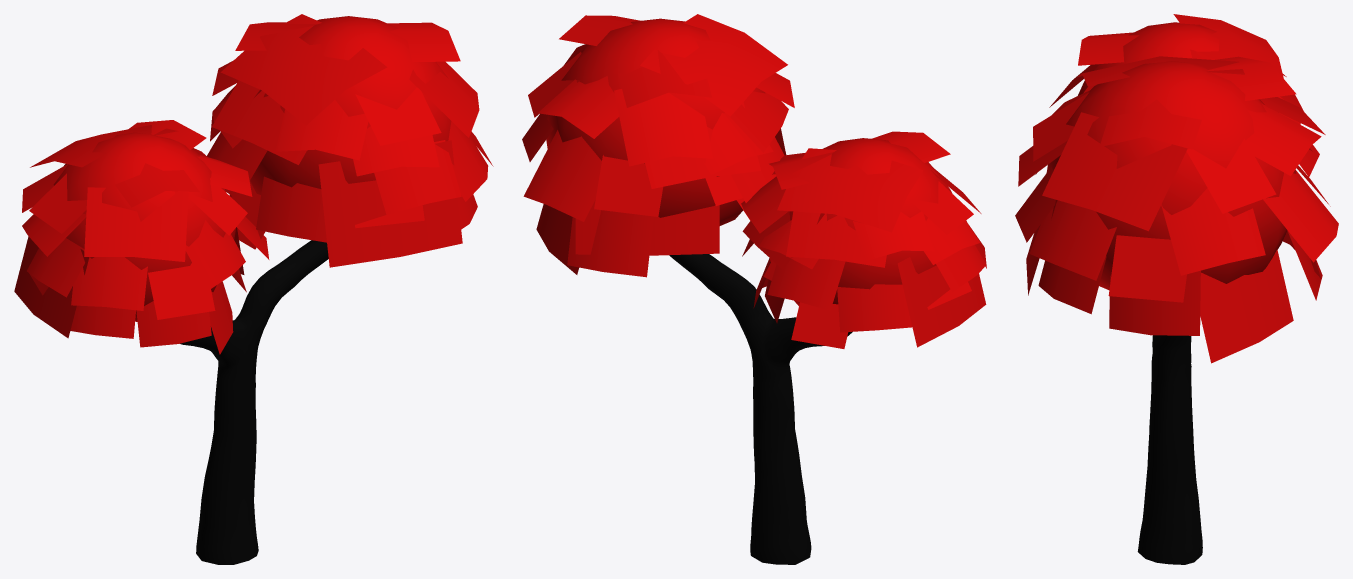
File: trunkvar5Model.fbx
3 views of the same model, side by side, from view 1: azimuth 30°, elevation 25°; view 2: azimuth 150°, elevation 25°; view 3: azimuth 270°, elevation 25° (orthographic). The views are drawn at different scales.
Visible parts, largest first — view 1: Oak2; view 2: Oak2; view 3: Oak2.
Boxes of the visible parts, box(x1,y1,x2,y2) form: Oak2: box(14, 14, 493, 564); Oak2: box(522, 14, 986, 564); Oak2: box(1015, 14, 1338, 564).
Bounding box in the file's own units: 118 × 126 × 67.88.
